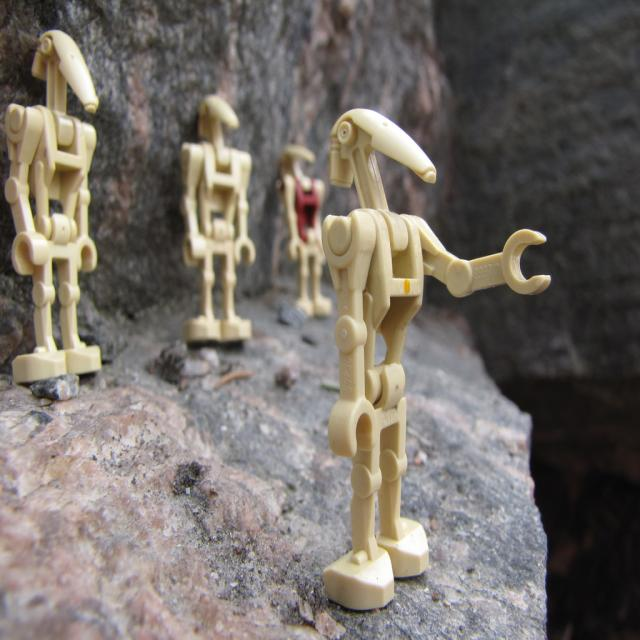Toy: (7, 22, 552, 610)
